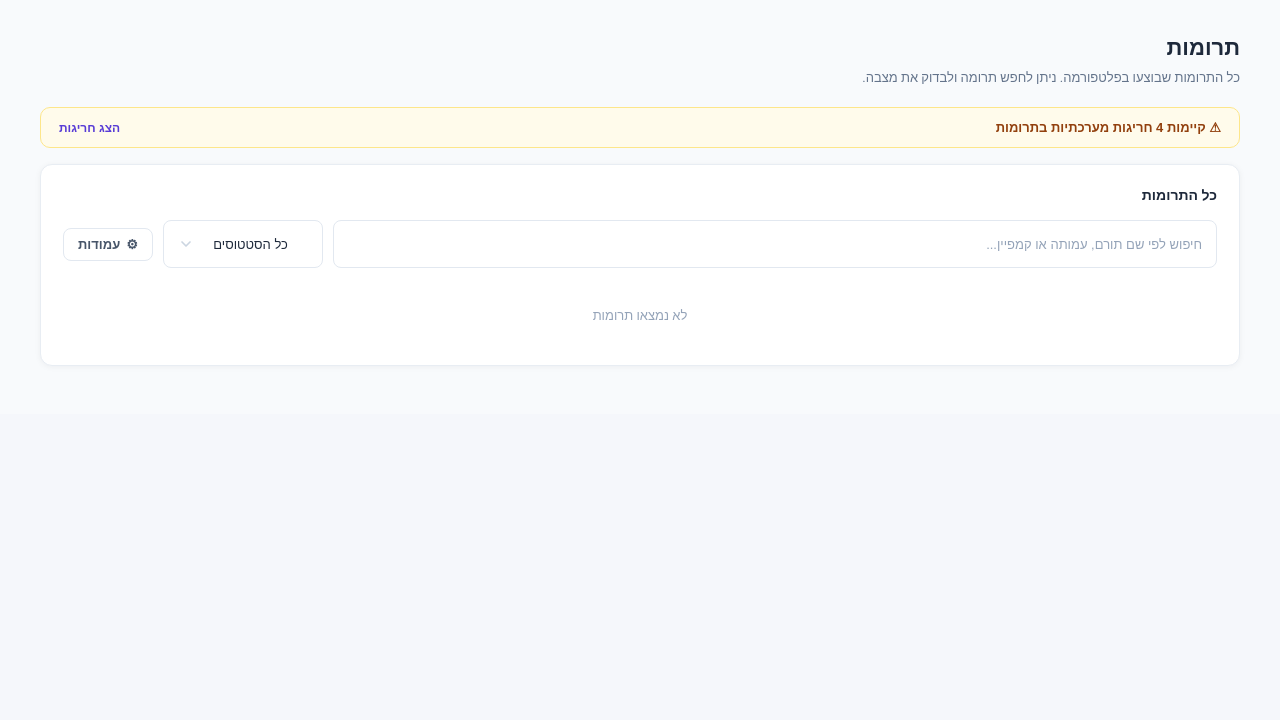
Test: PlatformCardcomOpsPageComponent - anomaly indicator (honest classification) › opening a group drawer still shows all underlying donations individually, none merged away, with donation/campaign human context and no raw ids/JSON
Click the button with class "ops-anomaly-bar": click(1076, 128) [40,107,1240,148]
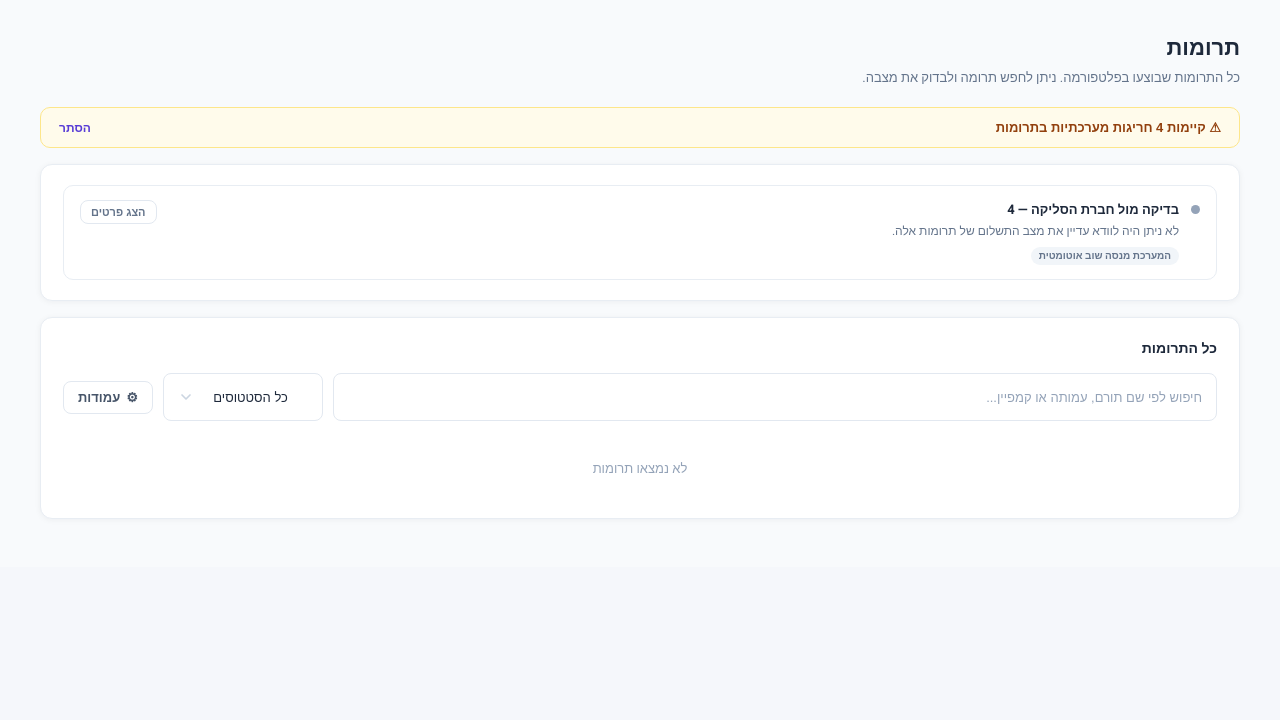
Click the button "הצג פרטים": click(118, 212) [80,200,157,224]
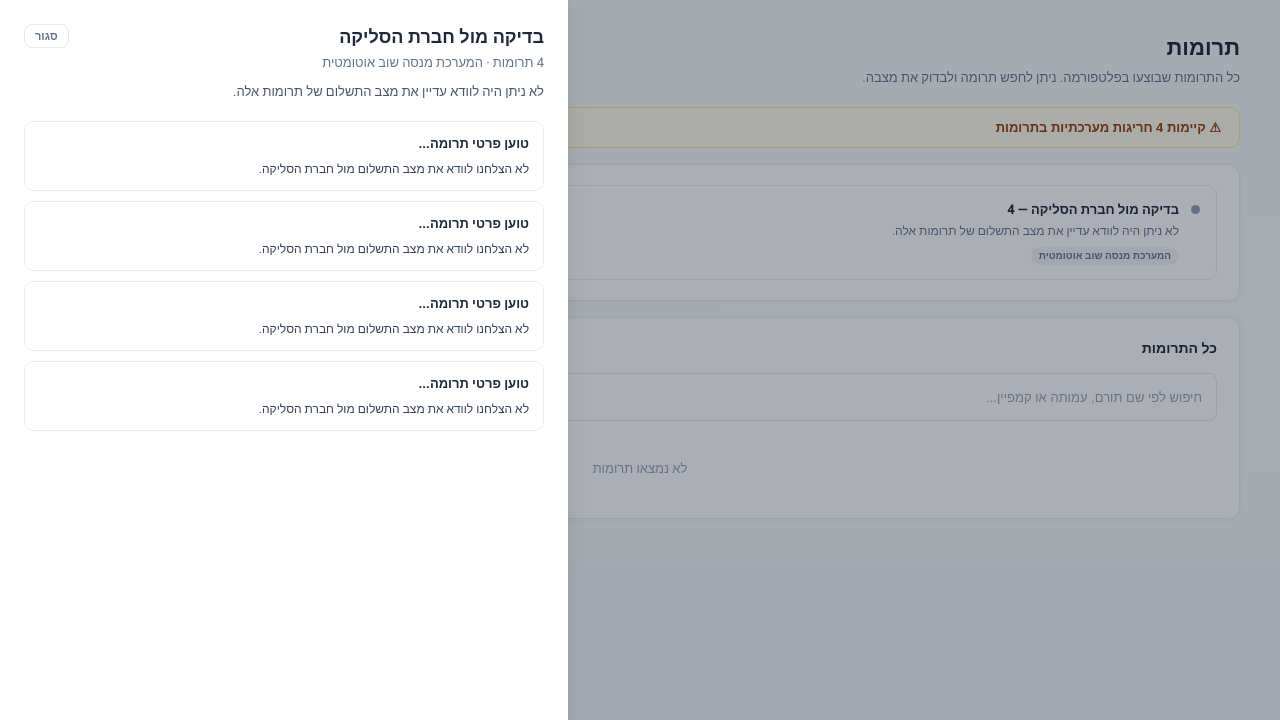
Expected: the number of elements with class "ops-drawer-item" is 4, [24,121,544,191]; [24,201,544,271]; [24,281,544,351]; [24,361,544,431]
